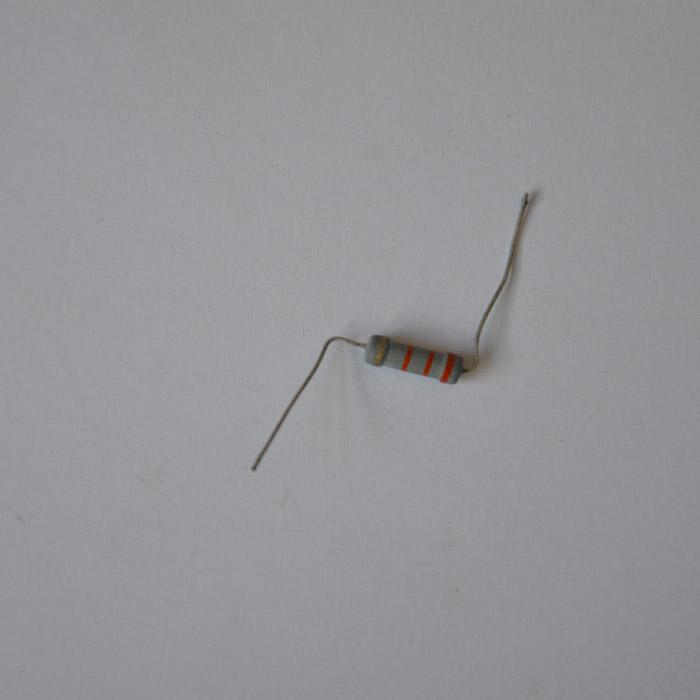resistor: (363, 333, 466, 384)
